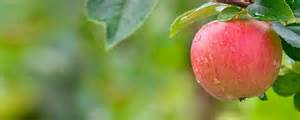apple: (188, 14, 285, 105)
